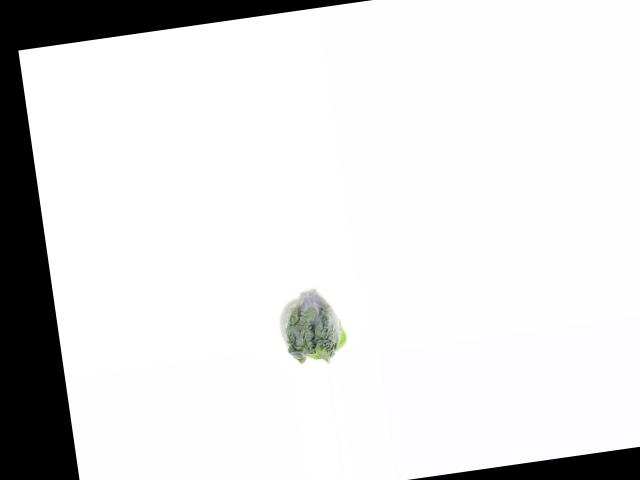lettuce: (273, 284, 352, 367)
